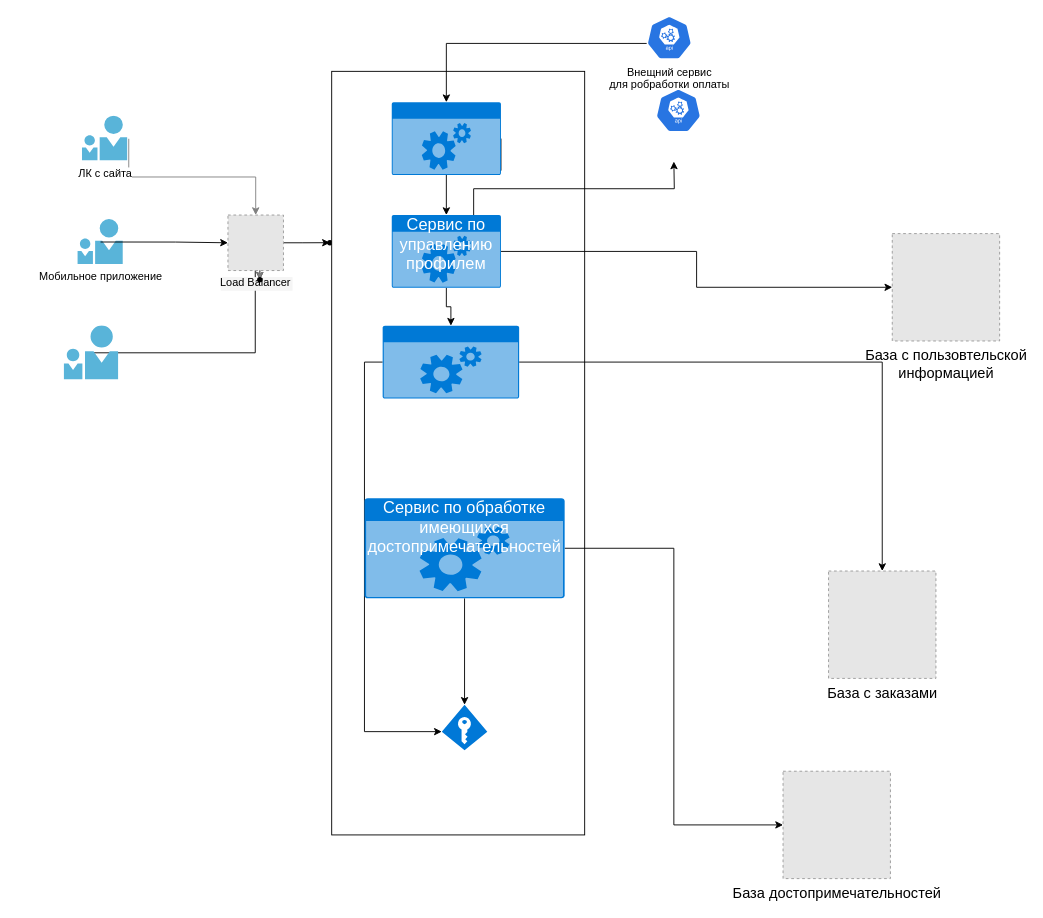
Image size: 1043x918. Some labels were removed from this diagram. Grey dashed boxes stand in for pictures. Each missing label, with the centre of its shape:
Администратор с компьютера во внутренней сети: (91,352)
Внешнии сервисы с пользовательской информацией: (678,110)
Сервис авторизации пользователей: (464,727)
Сервис для проведения оплаты: (445,138)
Сервис по управлению заказом: (450,361)
